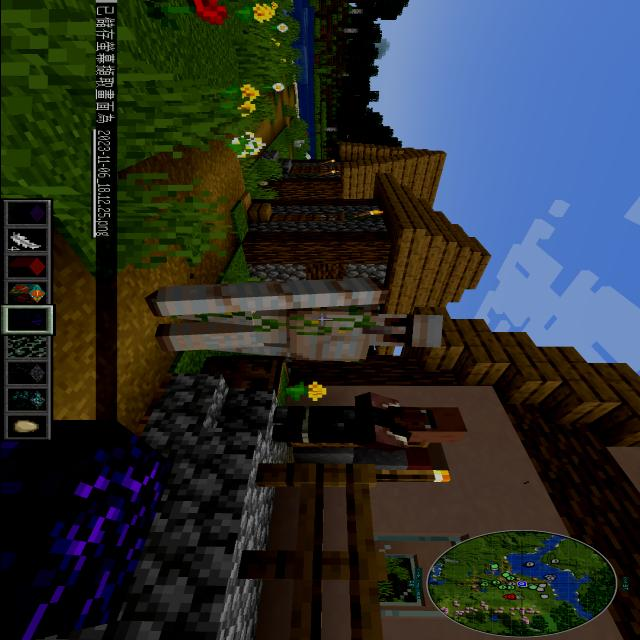chicken: (138, 272, 450, 366), (266, 391, 472, 456), (286, 136, 306, 150)
